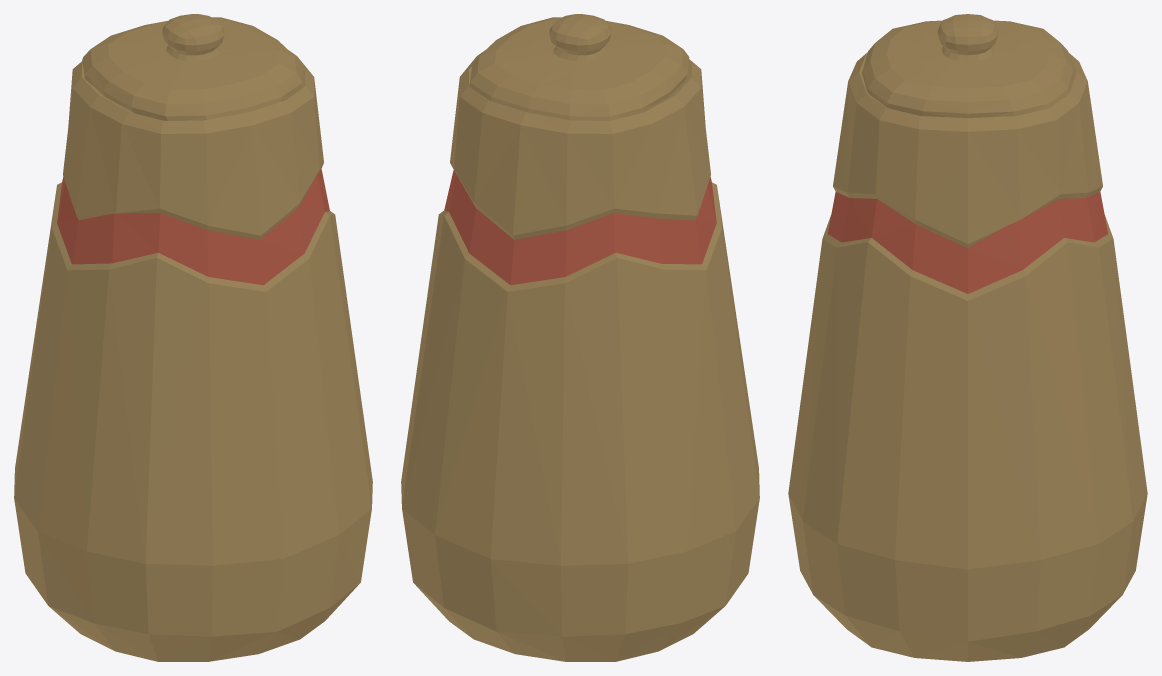
The model's file is Pot3.glb.
The picture shows the model from 3 angles, left to right: view 1: azimuth 30°, elevation 25°; view 2: azimuth 150°, elevation 25°; view 3: azimuth 270°, elevation 25°; orthographic projection.
Visible parts, largest first — view 1: Pot3; view 2: Pot3; view 3: Pot3.
Part boxes in pixels (x1,y1,x2,y2): Pot3: (14, 14, 372, 661); Pot3: (401, 14, 759, 661); Pot3: (788, 14, 1147, 661).
Bounding box in the file's own units: 0.4633 × 0.8353 × 0.4633.
